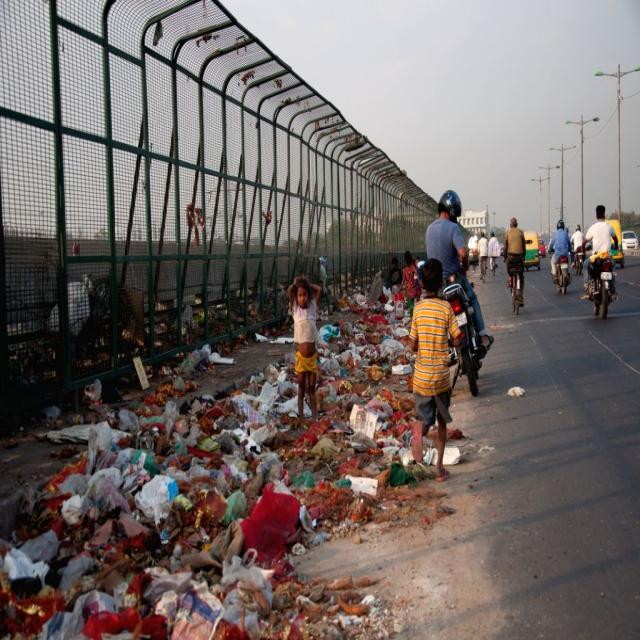garbage: (3, 246, 501, 640)
